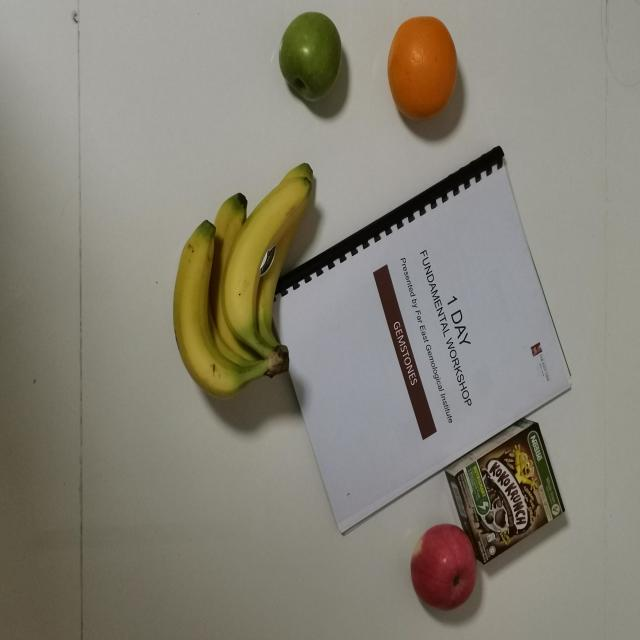Apple: (404, 522, 477, 621), (277, 7, 343, 106)
Banana: (169, 160, 313, 400)
Book: (260, 146, 580, 537)
Cerealbox: (448, 420, 564, 564)
Orange: (384, 14, 458, 122)
